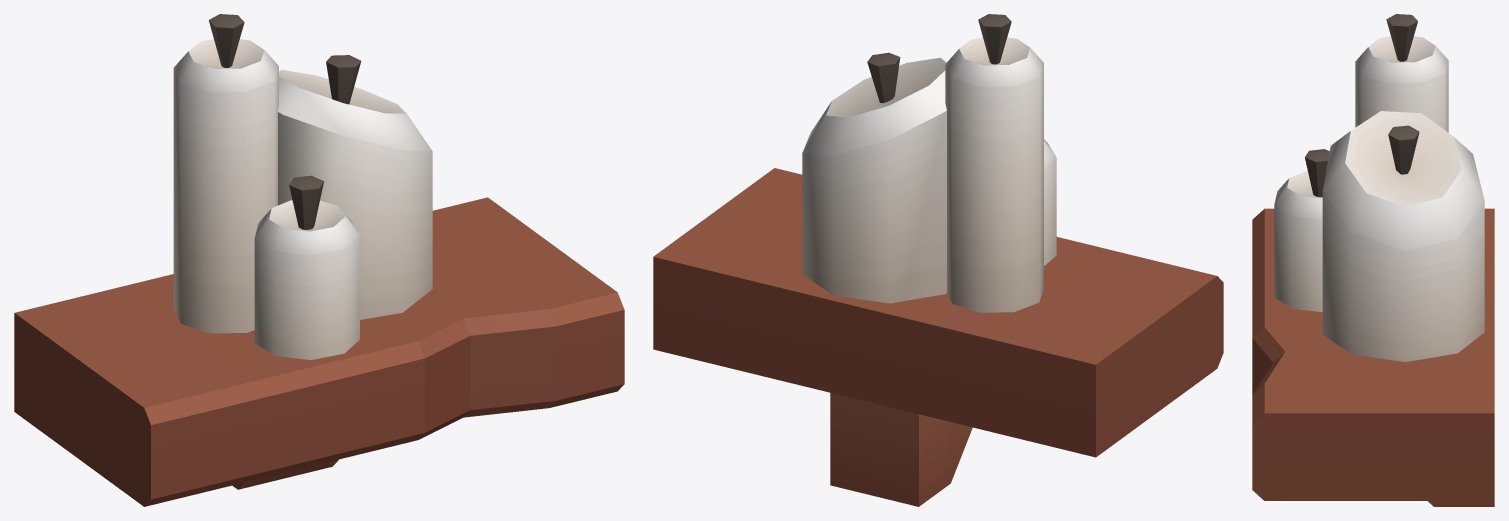
Rendered from shelf_small_candles.glb.
The picture shows the model from 3 angles, left to right: view 1: azimuth 30°, elevation 25°; view 2: azimuth 150°, elevation 25°; view 3: azimuth 270°, elevation 25°; orthographic projection. The views are drawn at different scales.
Parts seen in each view (by area): view 1: shelf_small_candles; view 2: shelf_small_candles; view 3: shelf_small_candles.
Boxes of the visible parts, <box> form: shelf_small_candles: <box>14,14,624,506</box>; shelf_small_candles: <box>653,14,1223,506</box>; shelf_small_candles: <box>1252,14,1494,506</box>.
Bounding box in the file's own units: 1 × 0.9941 × 0.5001.
1 material, 1 textured.
